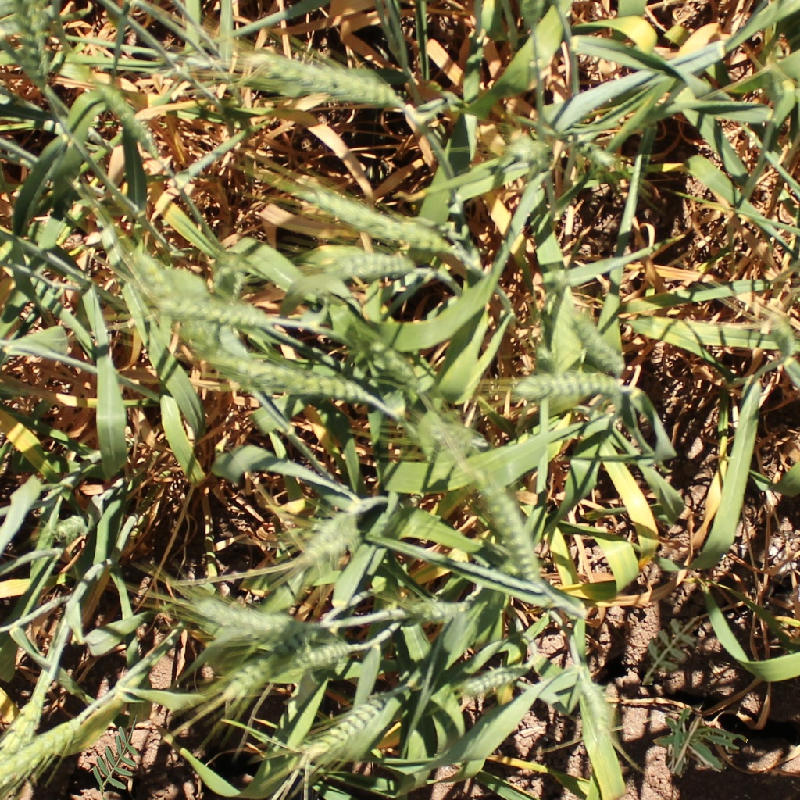spikelet: (284, 191, 455, 253), (464, 464, 548, 583), (295, 687, 400, 766), (247, 56, 405, 102), (230, 354, 374, 403), (119, 246, 213, 315), (1, 662, 56, 778), (1, 714, 83, 788), (188, 592, 295, 644), (509, 365, 628, 403), (309, 242, 419, 281), (566, 305, 627, 375), (296, 505, 365, 565), (101, 86, 156, 153), (178, 295, 277, 331), (371, 340, 432, 391), (219, 651, 278, 703), (424, 409, 487, 457), (388, 591, 470, 626), (454, 659, 523, 699), (289, 634, 357, 673), (206, 251, 249, 302), (505, 131, 553, 169), (51, 511, 90, 543)
weed: (652, 708, 748, 778), (642, 616, 702, 685), (93, 715, 139, 800)
